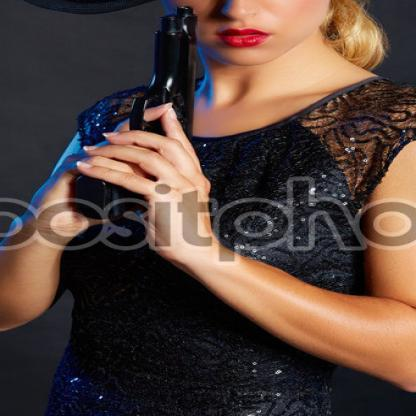gun: (60, 5, 204, 226)
